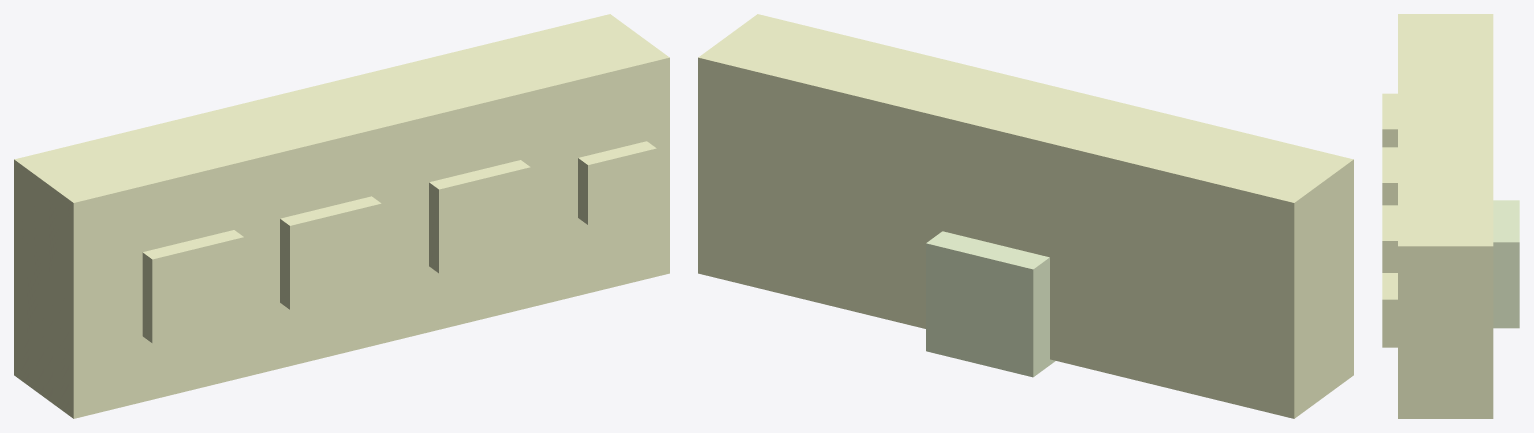
The model's file is signal_tram_priority_horizontal_4_aspect.glb.
The picture shows the model from 3 angles, left to right: view 1: azimuth 30°, elevation 25°; view 2: azimuth 150°, elevation 25°; view 3: azimuth 270°, elevation 25°; orthographic projection. The views are drawn at different scales.
Visible parts, largest first — view 1: housing, display_tram_caution, display_tram_go, display_tram_stop, display_tram_call; view 2: housing, bracket; view 3: housing, bracket, display_tram_call, display_tram_go, display_tram_caution, display_tram_stop.
Boxes of the visible parts, x1,y1,x2,y2 form: housing: (14,14,669,418); display_tram_caution: (280,196,381,309); display_tram_go: (429,160,530,273); display_tram_stop: (142,230,243,343); display_tram_call: (578,141,656,224); housing: (698,14,1353,418); bracket: (926,231,1055,377); housing: (1398,14,1493,418); bracket: (1493,200,1519,328); display_tram_call: (1382,273,1397,347); display_tram_go: (1382,205,1397,272); display_tram_caution: (1382,147,1397,205); display_tram_stop: (1382,93,1397,147).
Size of the model in its own units: 1.04 by 0.37 by 0.26.
